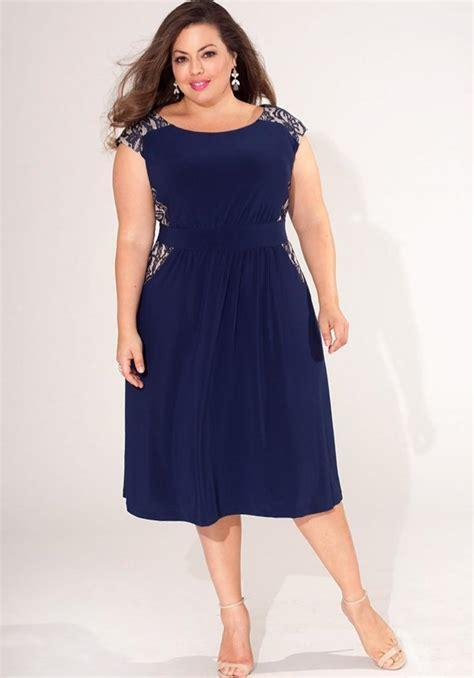dress: (115, 106, 343, 526)
